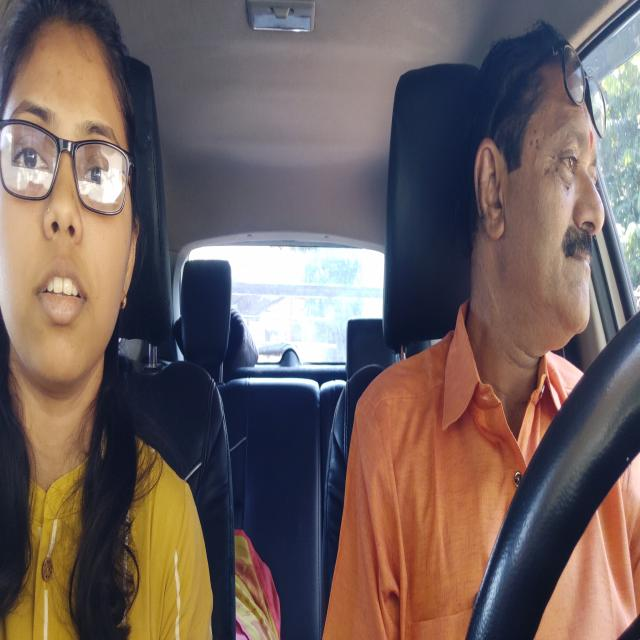LeftRight: (455, 20, 606, 359)
person: (1, 2, 149, 411)
